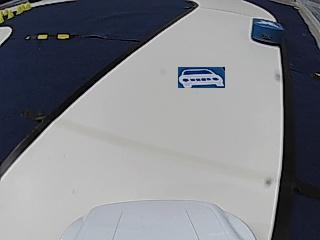prop: (252, 17, 284, 45)
